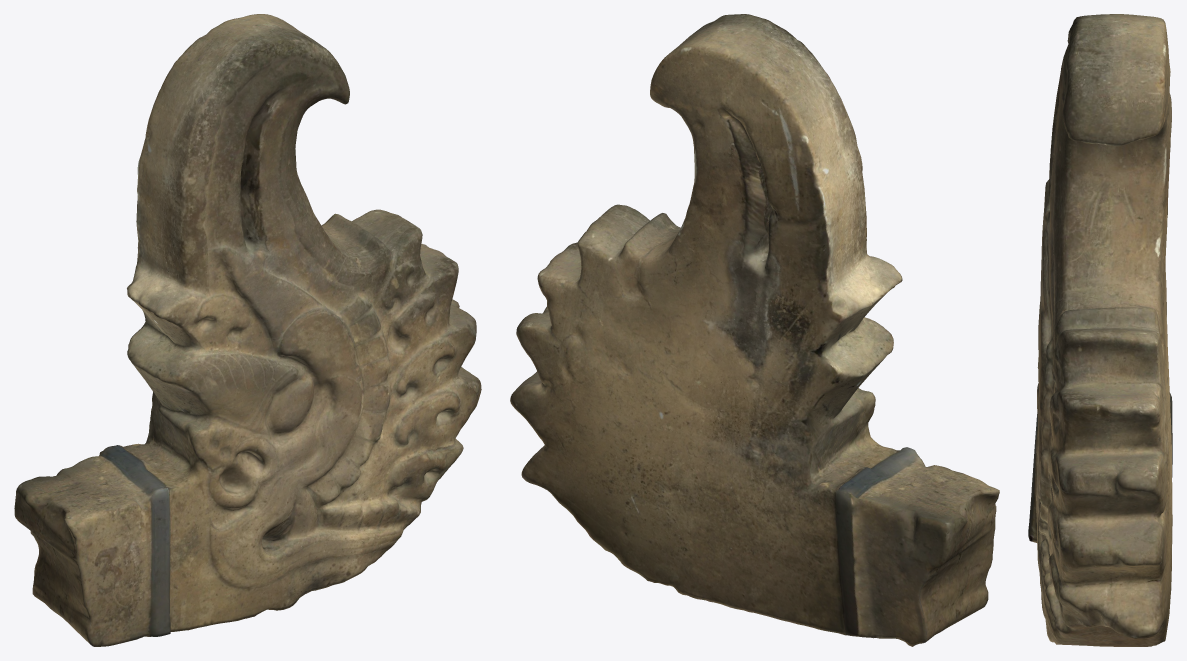
File: 30_vattrangtri_final.glb
3 views of the same model, side by side, from view 1: azimuth 30°, elevation 25°; view 2: azimuth 150°, elevation 25°; view 3: azimuth 270°, elevation 25° (orthographic). The views are drawn at different scales.
Bounding box in the file's own units: 0.4783 × 0.5794 × 0.1272.
1 material, 1 textured.
